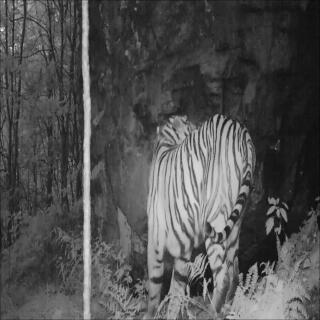Tiger: (136, 100, 272, 308)
